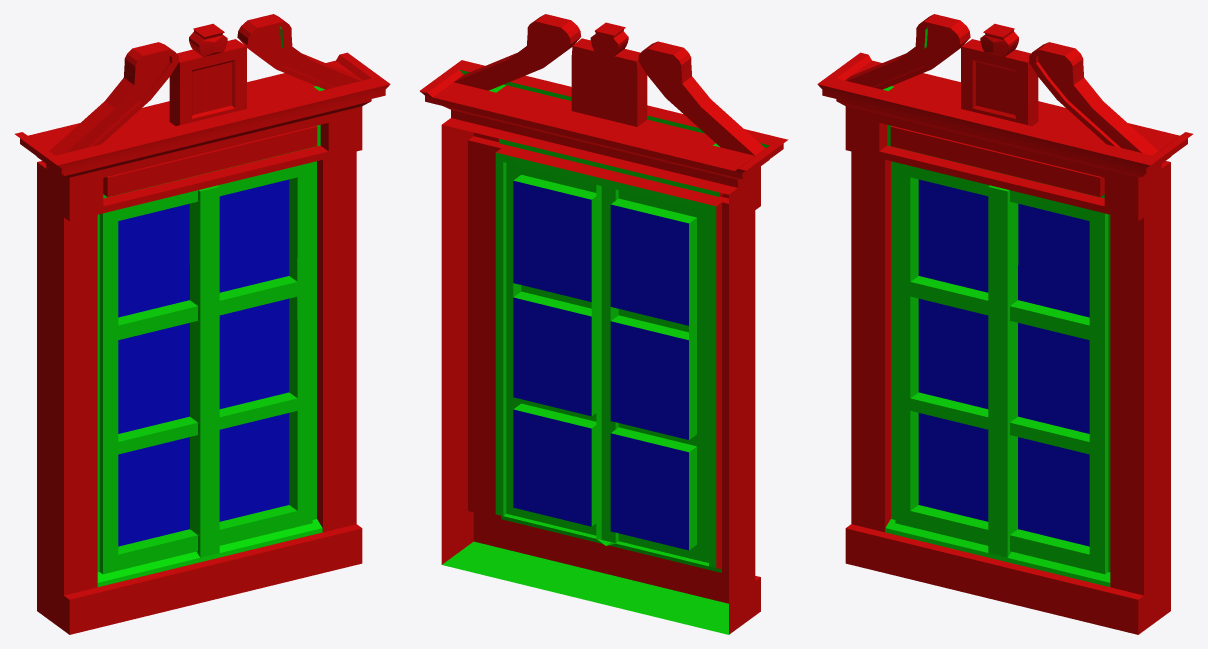
Rendered from Window02_Nice.fbx.
3 views of the same model, side by side, from view 1: azimuth 30°, elevation 25°; view 2: azimuth 150°, elevation 25°; view 3: azimuth 330°, elevation 25° (orthographic).
Parts seen in each view (by area): view 1: Window002; view 2: Window002; view 3: Window002.
Boxes of the visible parts, bbox=[...] form: Window002: bbox=[15, 14, 390, 634]; Window002: bbox=[420, 14, 788, 634]; Window002: bbox=[817, 14, 1192, 634].
Size of the model in its own units: 114 by 184 by 25.53.
